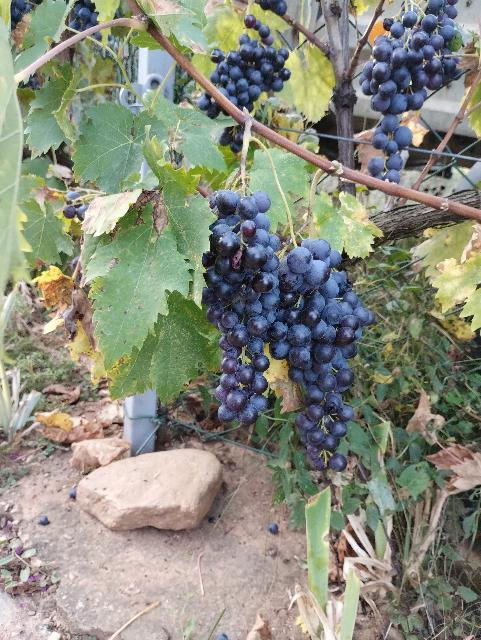grapes: (269, 239, 376, 471), (202, 190, 280, 425), (361, 0, 460, 181), (210, 15, 291, 112)
